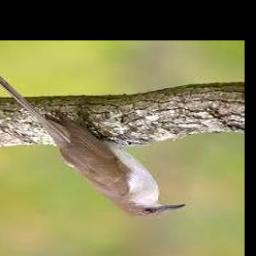Cuckoo: (0, 71, 186, 219)
